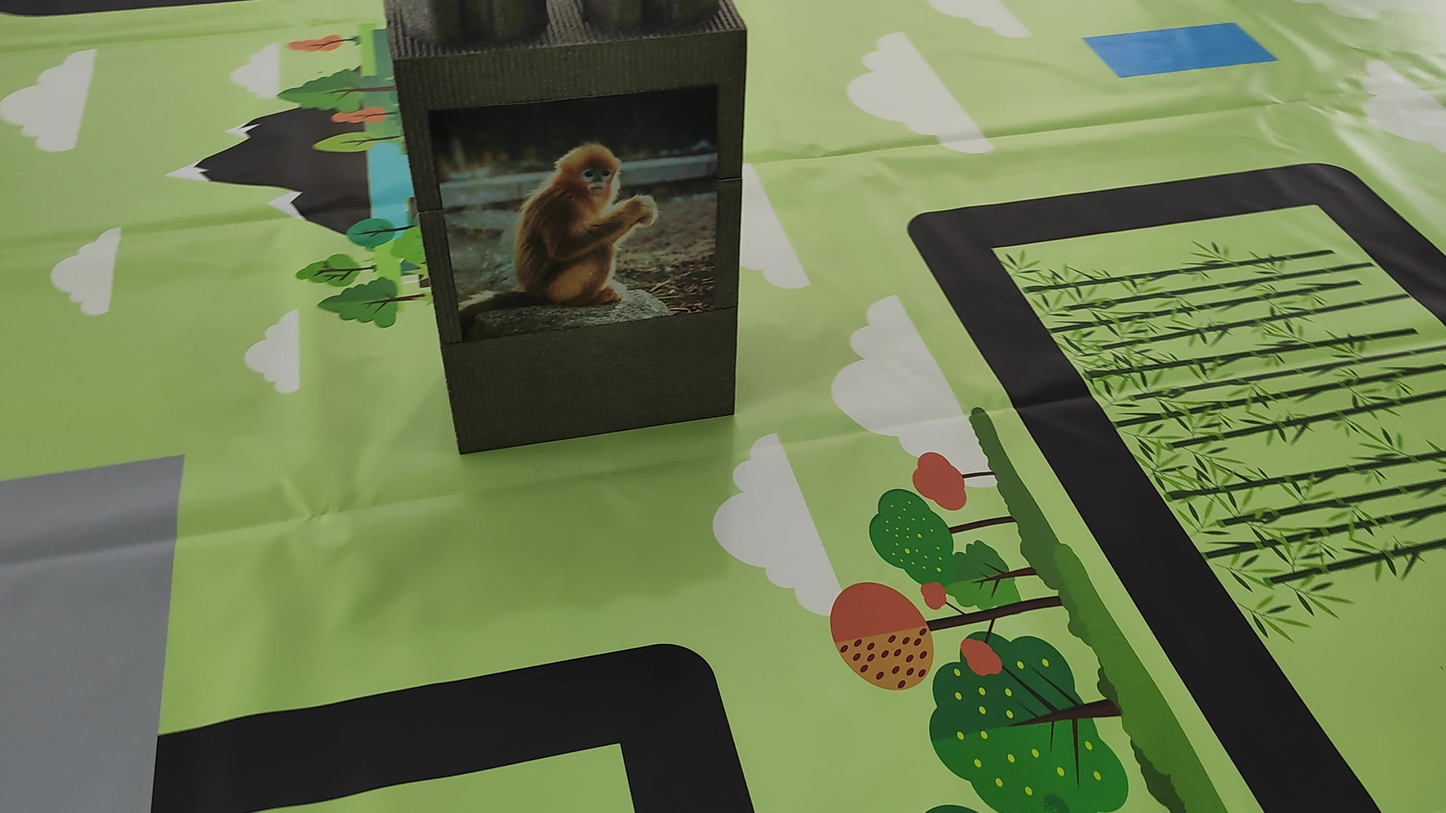monkey: (446, 128, 684, 341)
